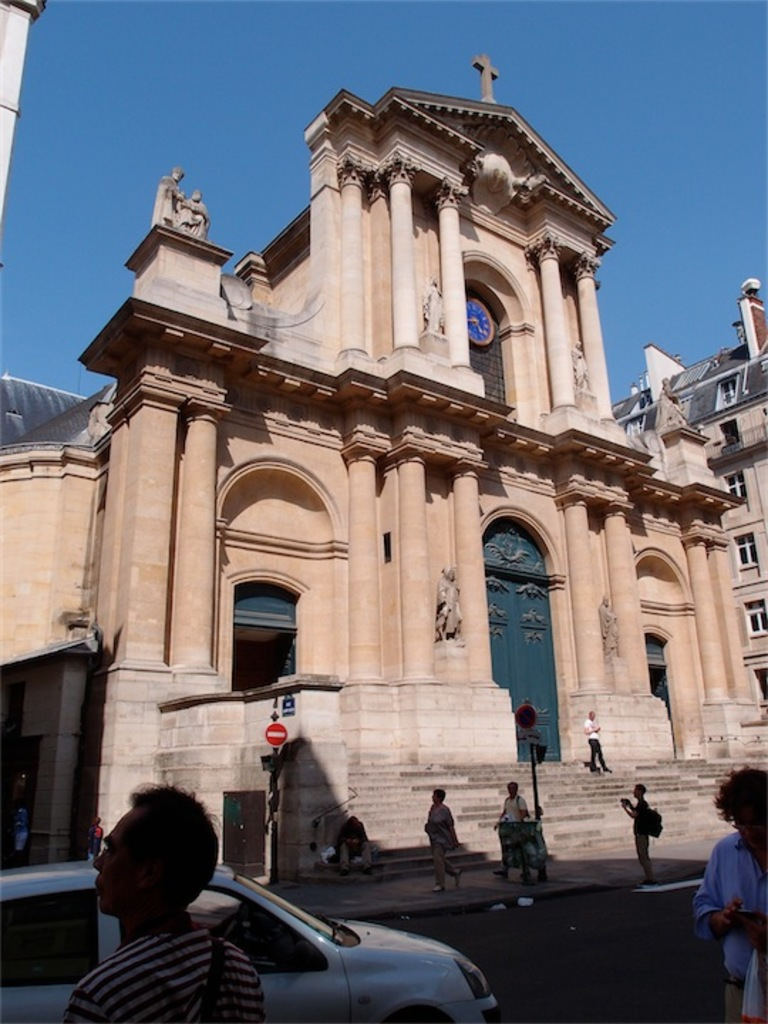Car: (0, 859, 502, 1022)
